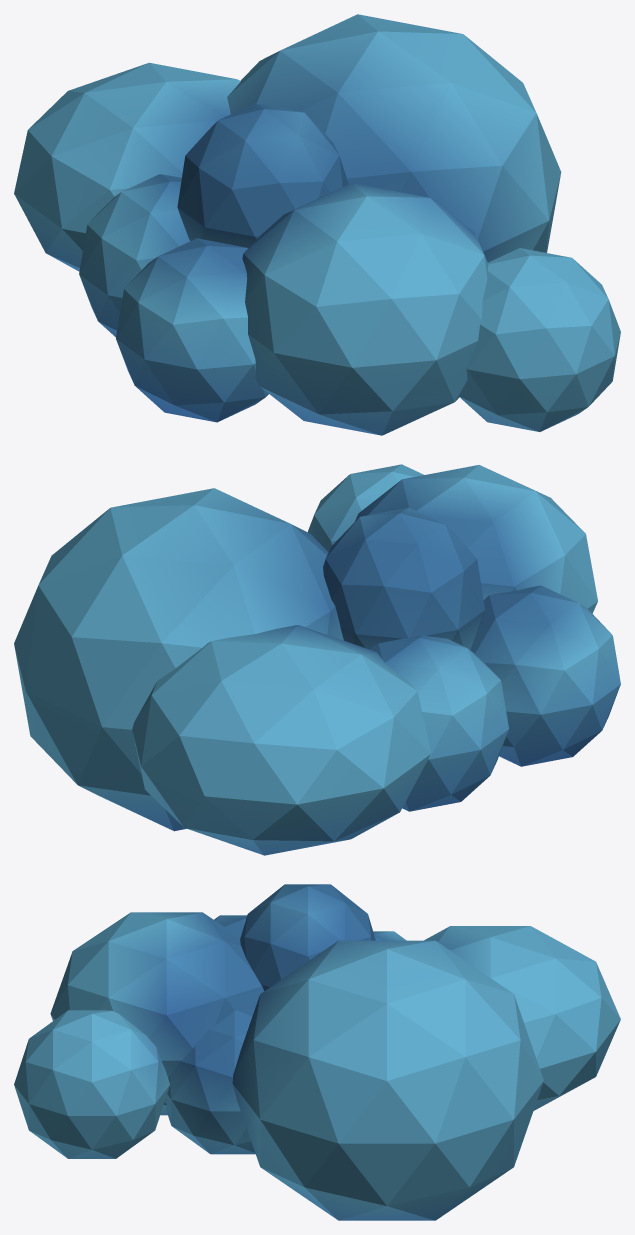
Rendered from ОБЛАКО 3.fbx.
3 renders of one model, top to bottom at view 1: azimuth 30°, elevation 25°; view 2: azimuth 150°, elevation 25°; view 3: azimuth 270°, elevation 25°, orthographic. The views are drawn at different scales.
Visible parts, largest first — view 1: Icosphere.004; view 2: Icosphere.004; view 3: Icosphere.004.
Part boxes in pixels (x1,y1,x2,y2): Icosphere.004: (14,14,620,435); Icosphere.004: (14,464,620,855); Icosphere.004: (14,884,620,1220).
Bounding box in the file's own units: 655 × 403 × 843.
